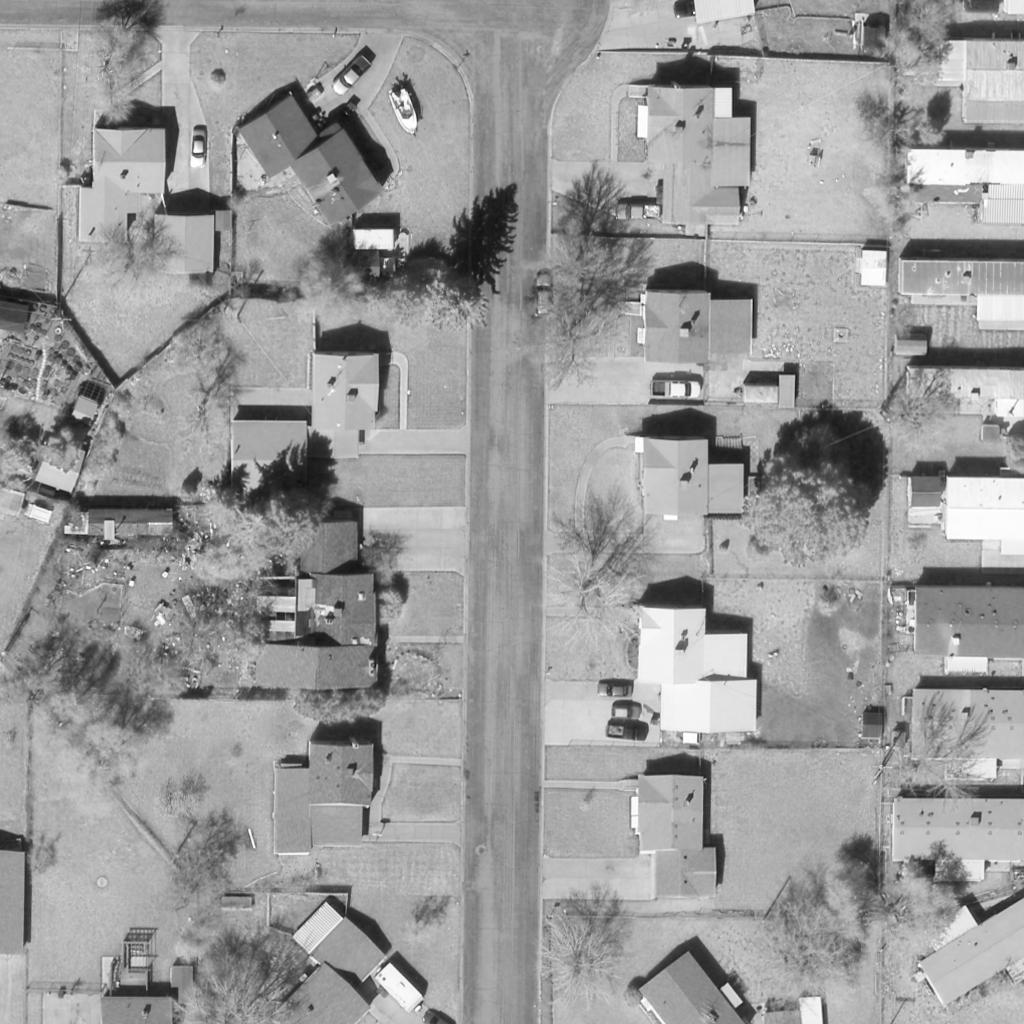vehicle: (373, 965, 425, 1015), (329, 53, 375, 97), (387, 88, 423, 138), (599, 720, 651, 744), (532, 274, 556, 318), (190, 124, 210, 170), (349, 230, 395, 250), (646, 381, 702, 397), (615, 204, 663, 220), (609, 704, 643, 722), (672, 1, 708, 17), (596, 683, 634, 697)
